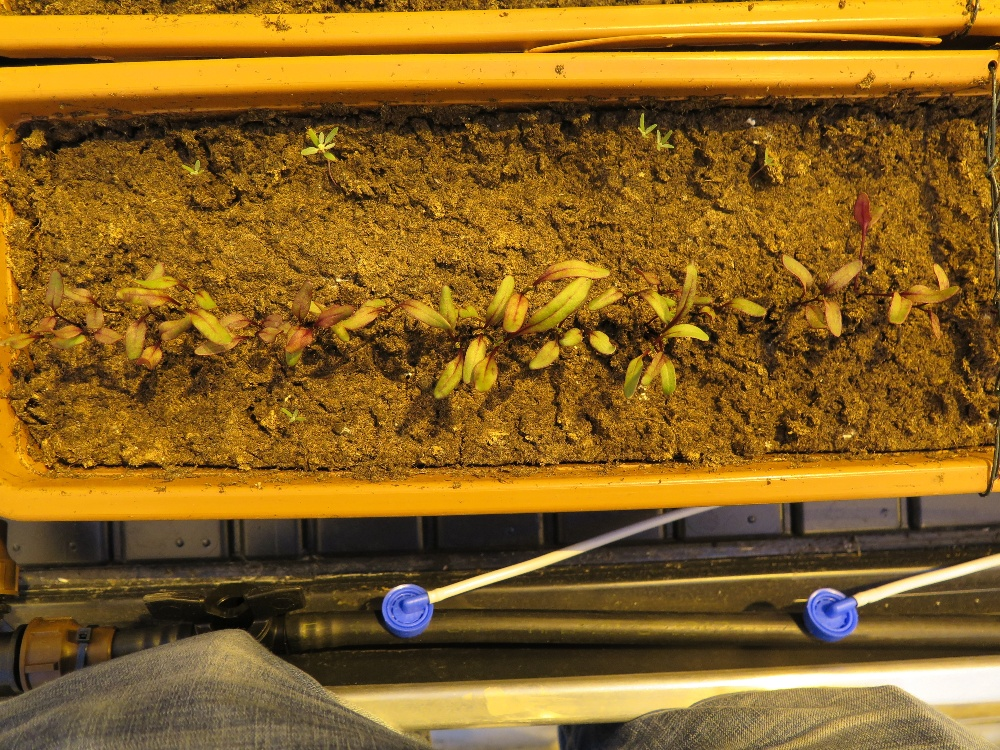crop: (373, 283, 523, 397), (114, 254, 234, 383), (500, 261, 618, 383), (602, 272, 712, 397), (266, 276, 371, 376), (452, 274, 534, 401), (177, 295, 302, 376), (12, 270, 98, 379), (773, 254, 862, 349), (689, 254, 773, 338), (875, 254, 966, 331), (59, 286, 141, 367), (846, 183, 884, 279)
weed: (625, 111, 682, 165), (305, 117, 341, 167), (741, 142, 777, 181), (171, 156, 209, 186)
